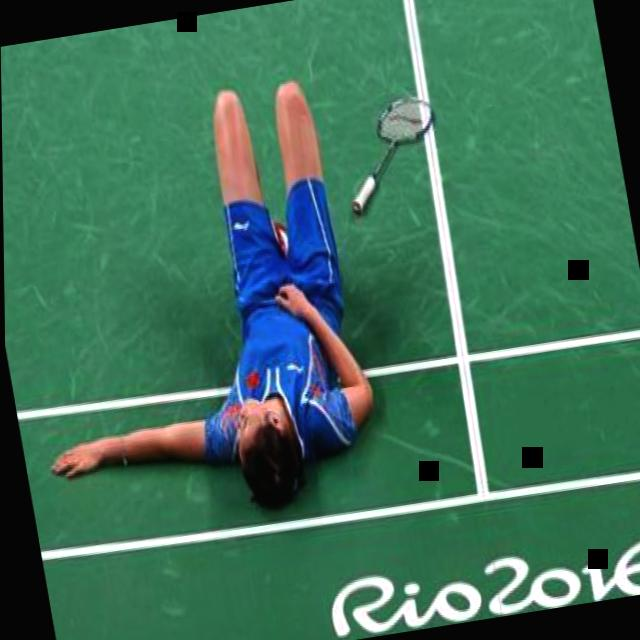Fall-Detected: (1, 44, 412, 545)
